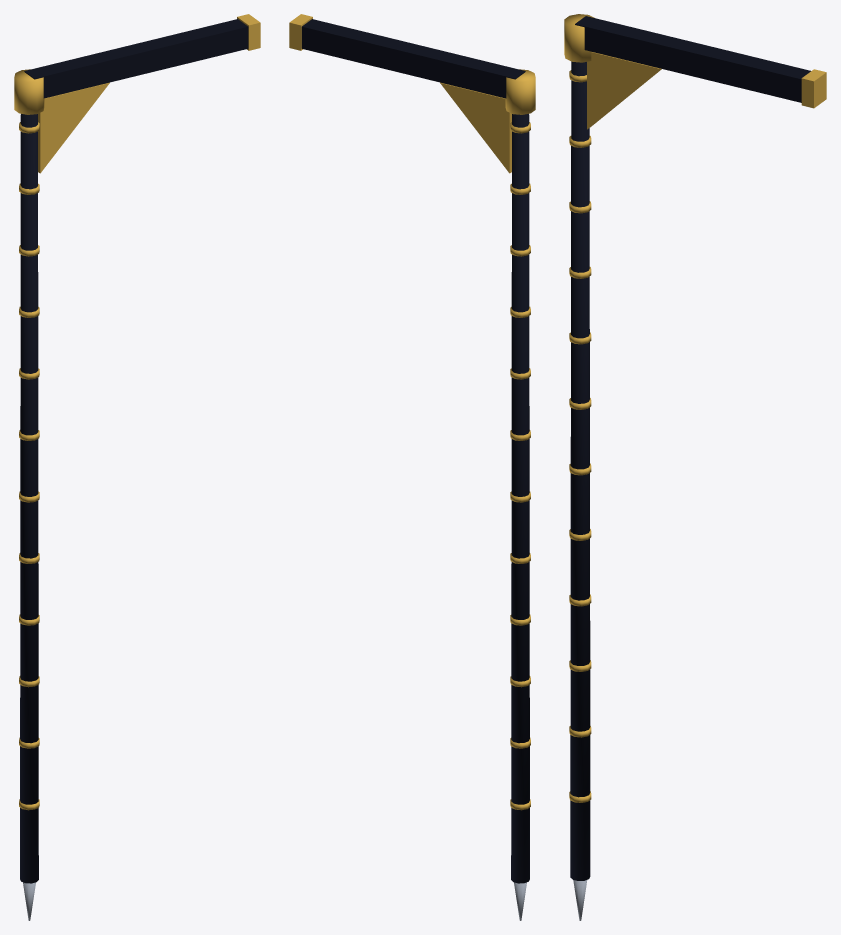
Rendered from lintel_awakened.glb.
3 views of the same model, side by side, from view 1: azimuth 30°, elevation 25°; view 2: azimuth 150°, elevation 25°; view 3: azimuth 330°, elevation 25° (orthographic). The views are drawn at different scales.
Visible parts, largest first — view 1: LintelAwakened; view 2: LintelAwakened; view 3: LintelAwakened.
Boxes of the visible parts, bbox=[...] form: LintelAwakened: bbox=[14, 14, 260, 920]; LintelAwakened: bbox=[289, 14, 535, 920]; LintelAwakened: bbox=[564, 14, 826, 920].
Bounding box in the file's own units: 0.6073 × 2.07 × 0.068.
